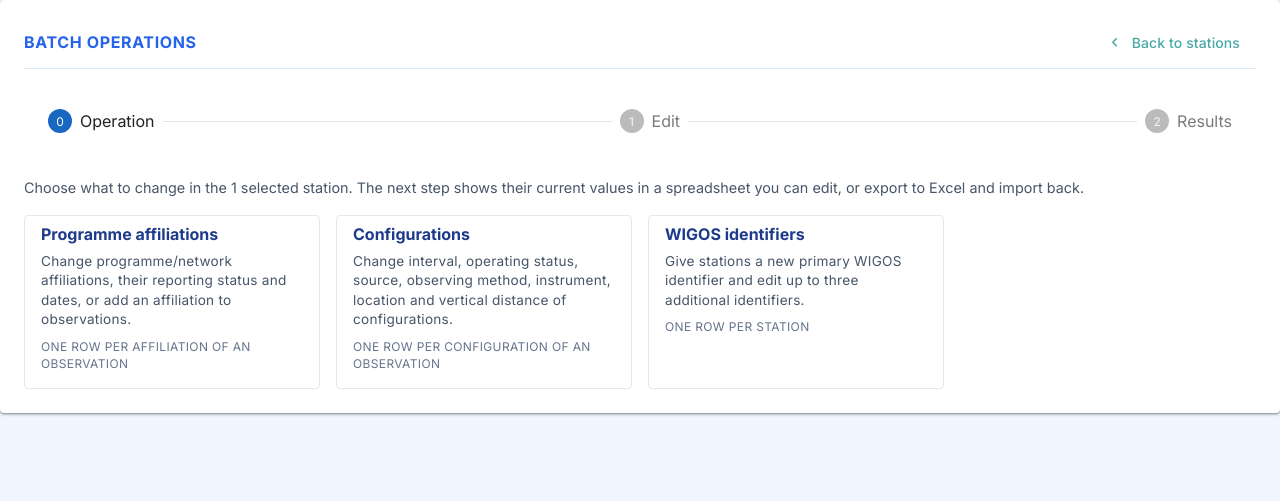
Test: BatchWizard › offers a retry when the stations can't be loaded
Click the element with class "operation-card" that starts with "Programme affiliations" at (172, 302), box [24,215,320,389]
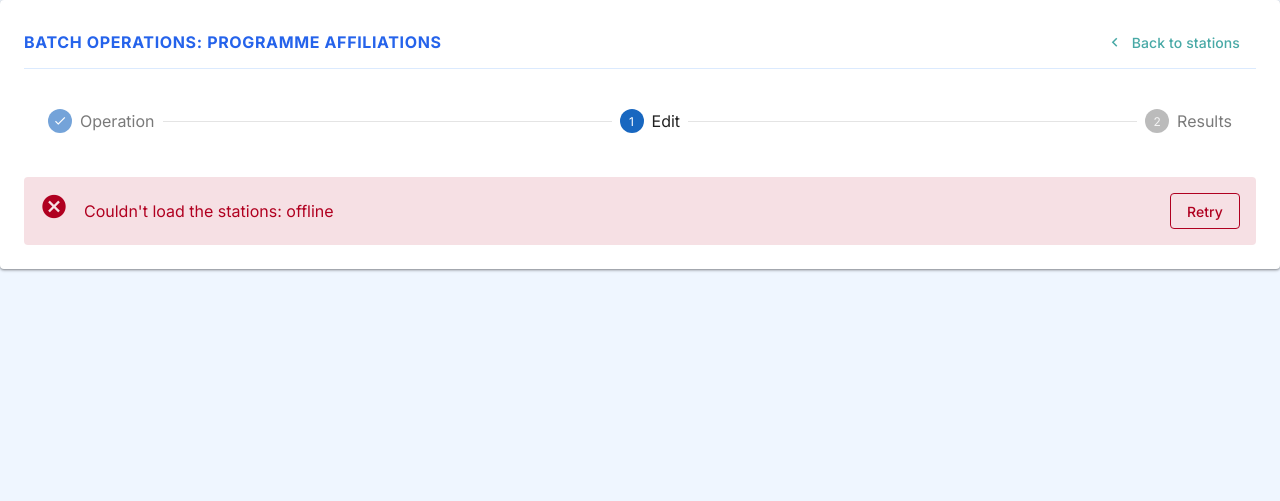
Check: the text "Couldn't load the stations: offline" is shown, box [84,201,334,221]
Click the button "Retry" at (1205, 211), box [1170,193,1240,229]
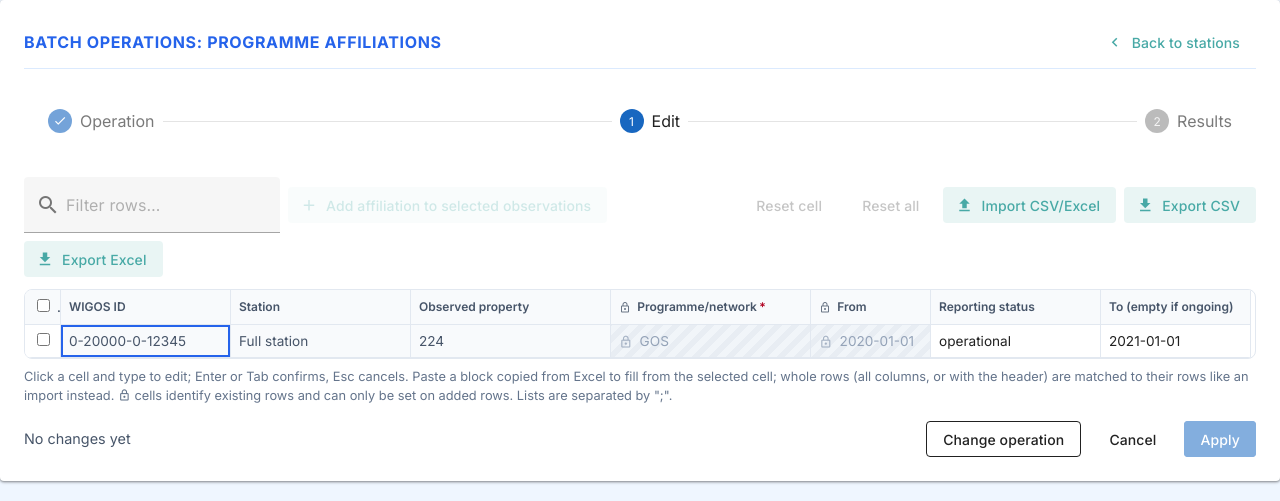
Check: the table with class "sheet-table" is shown, box [25,290,1251,358]
